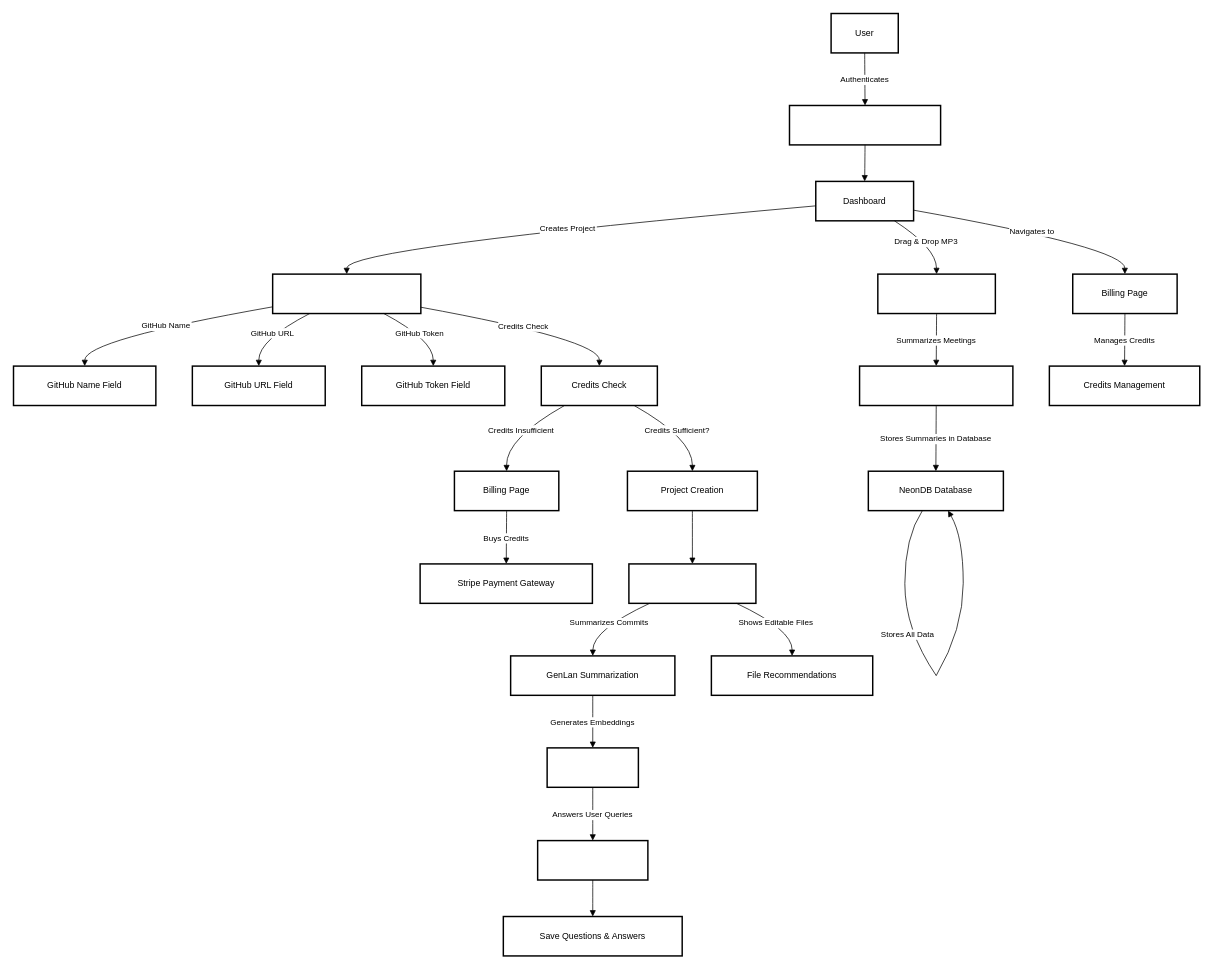
The diagram is 1213 pixels wide and 969 high, and some of its shapes have lost their labels. Each missing label, with the centre of its shape:
AssemblyAI Summary: (935,385)
Clerk Authentication: (864,124)
Create Project Page: (346,293)
LanChain: (592,767)
Meetings Page: (936,293)
Project Created: (692,583)
Q&A Feature: (592,860)
